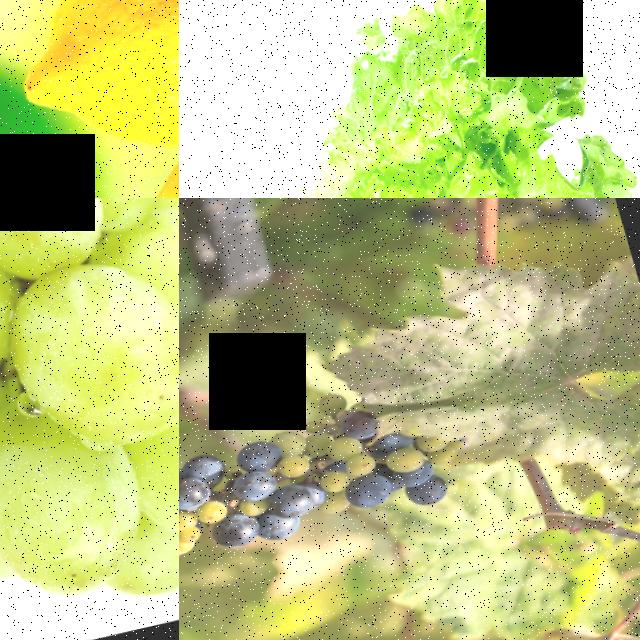grapes: (0, 198, 179, 640), (179, 415, 382, 586)
lemon: (0, 0, 179, 176), (91, 90, 179, 198)
lettuce: (251, 0, 640, 198)
